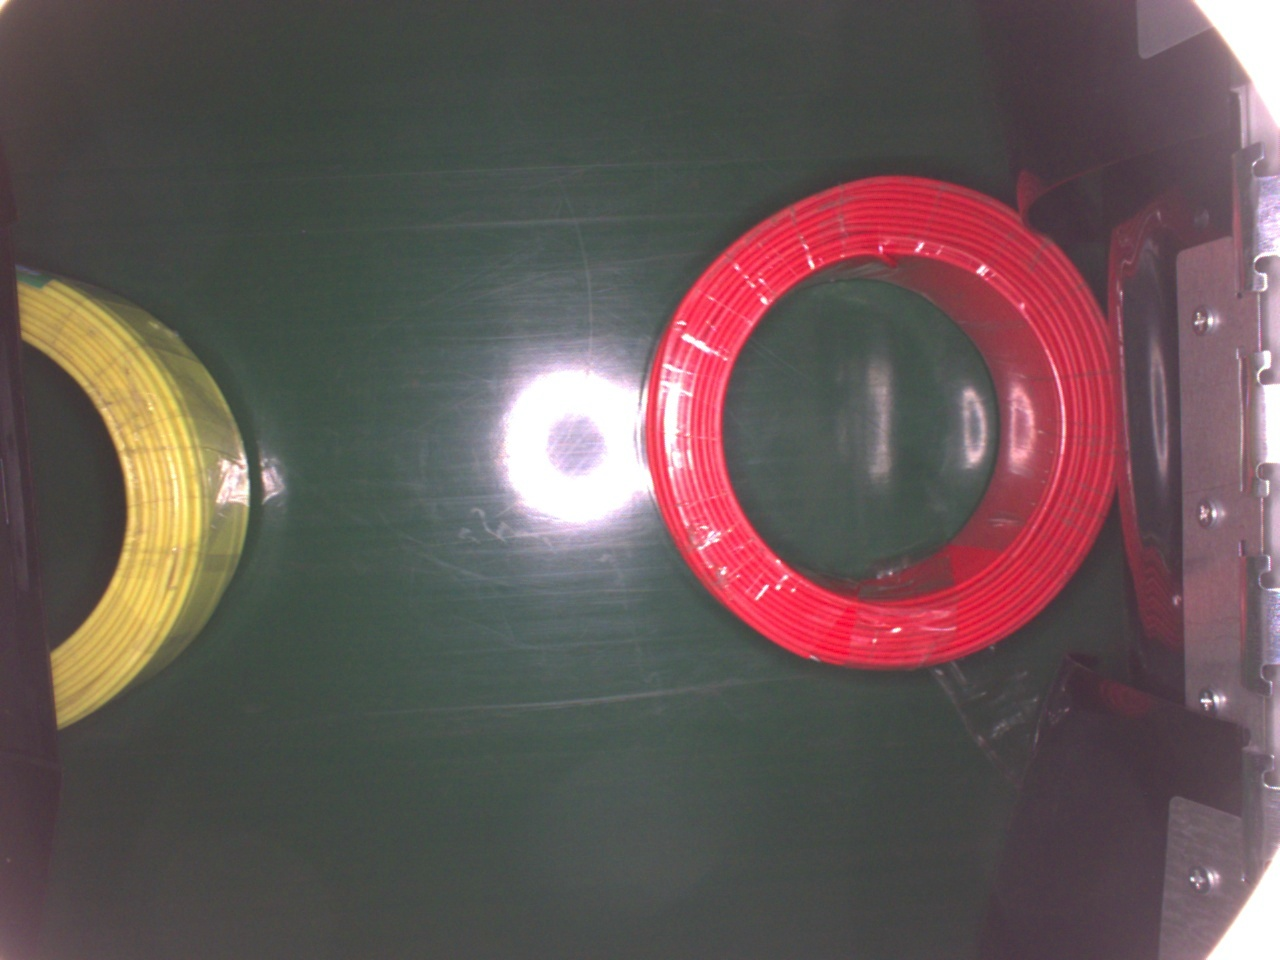red: (635, 173, 1117, 672)
yellow: (16, 261, 250, 728)
